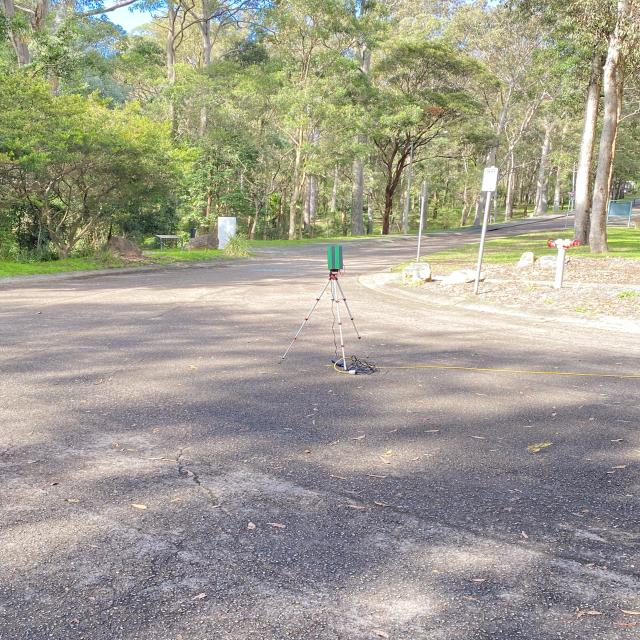matrix: (324, 241, 345, 275)
